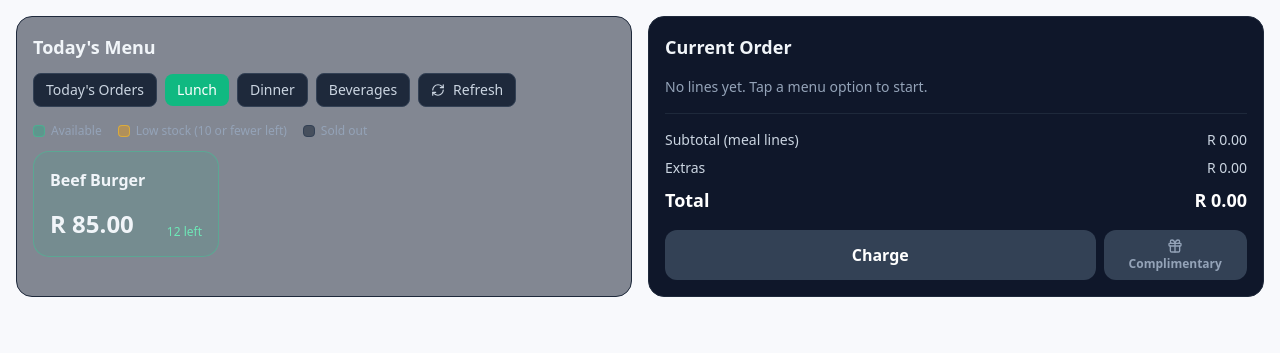
Test case: menu refresh failures › keeps the last menu and shows when it was last updated
Expected: the text "Beef Burger" is shown, x1=50 y1=169 x2=145 y2=191
Click the button "Refresh" at {"x": 467, "y": 90}, box x1=418 y1=73 x2=516 y2=107
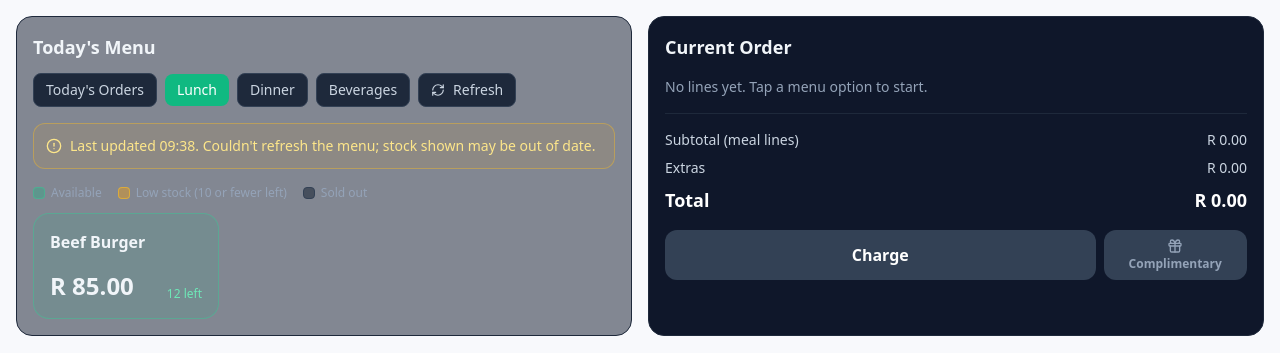
Expected: the text "Beef Burger" is shown, x1=50 y1=231 x2=145 y2=253
Click the button "Refresh" at {"x": 467, "y": 90}, box x1=418 y1=73 x2=516 y2=107
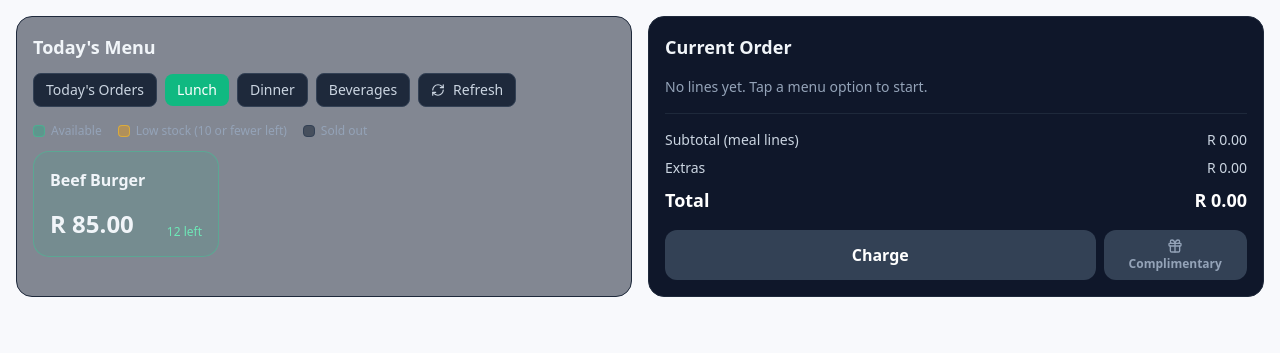
Expected: the text "Beef Burger" is shown, x1=50 y1=169 x2=145 y2=191
Now the text "Last updated" is gone
